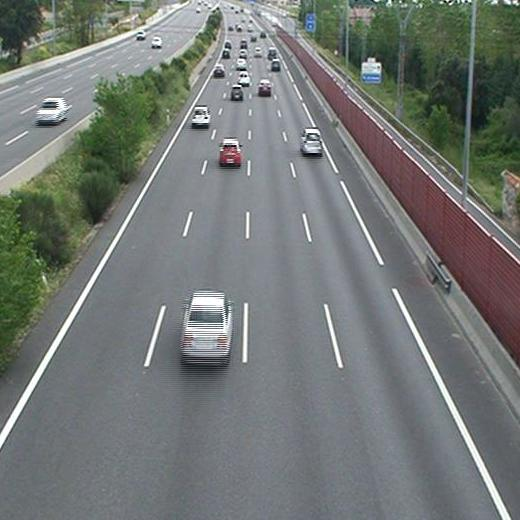car: (182, 293, 231, 358), (219, 140, 242, 163), (300, 129, 322, 153), (192, 107, 210, 124), (231, 86, 245, 99), (237, 71, 250, 84), (258, 80, 271, 92), (235, 58, 246, 69), (213, 65, 224, 75), (253, 47, 263, 57), (221, 48, 231, 56), (271, 60, 279, 69)
